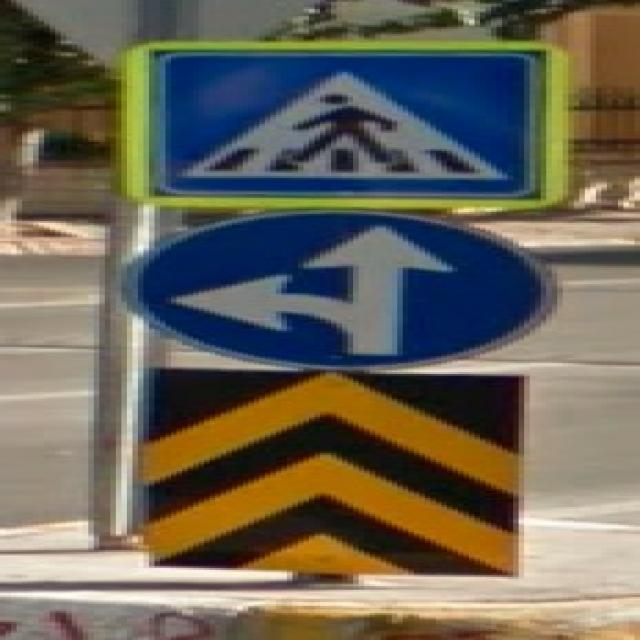Straight or Left: (120, 211, 561, 368)
